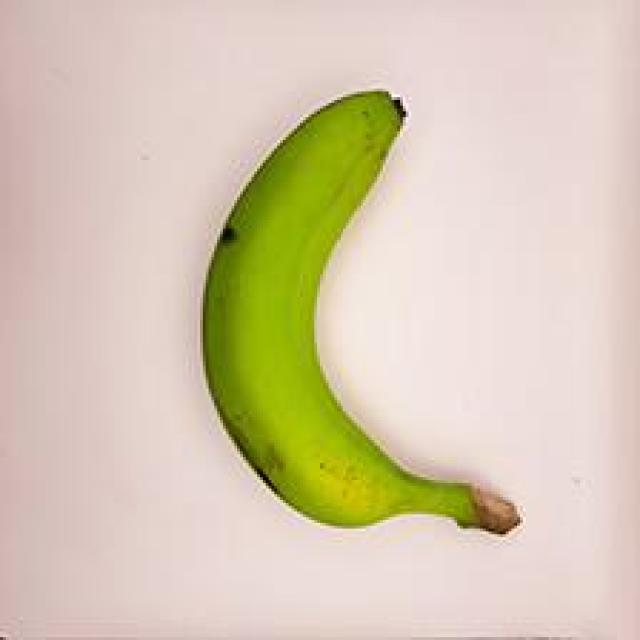Unripe: (190, 65, 546, 563)
